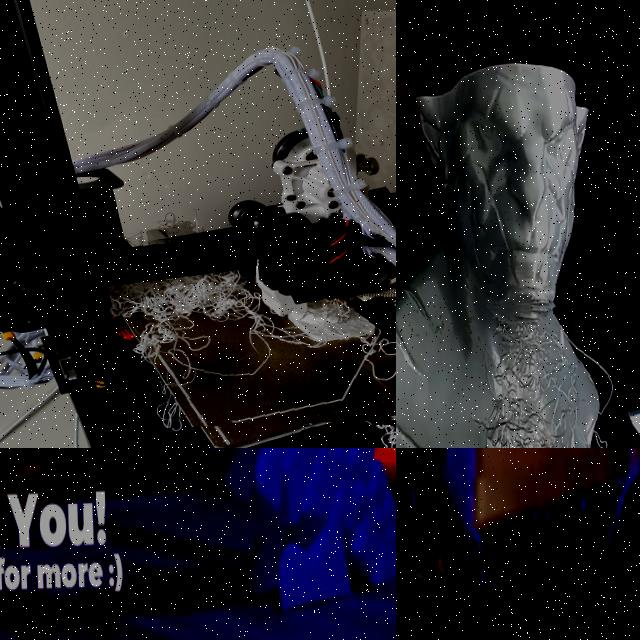spaghetti: (89, 224, 396, 429), (425, 294, 640, 448), (521, 448, 640, 640)
